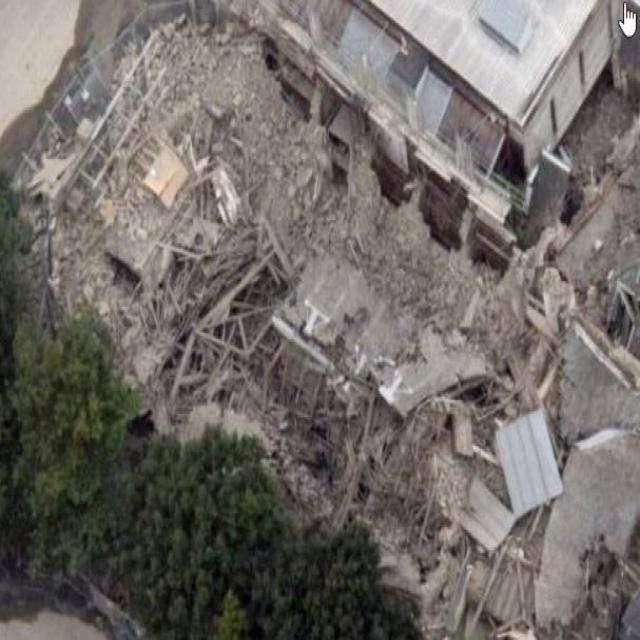collapsed_building: (79, 84, 544, 576)
